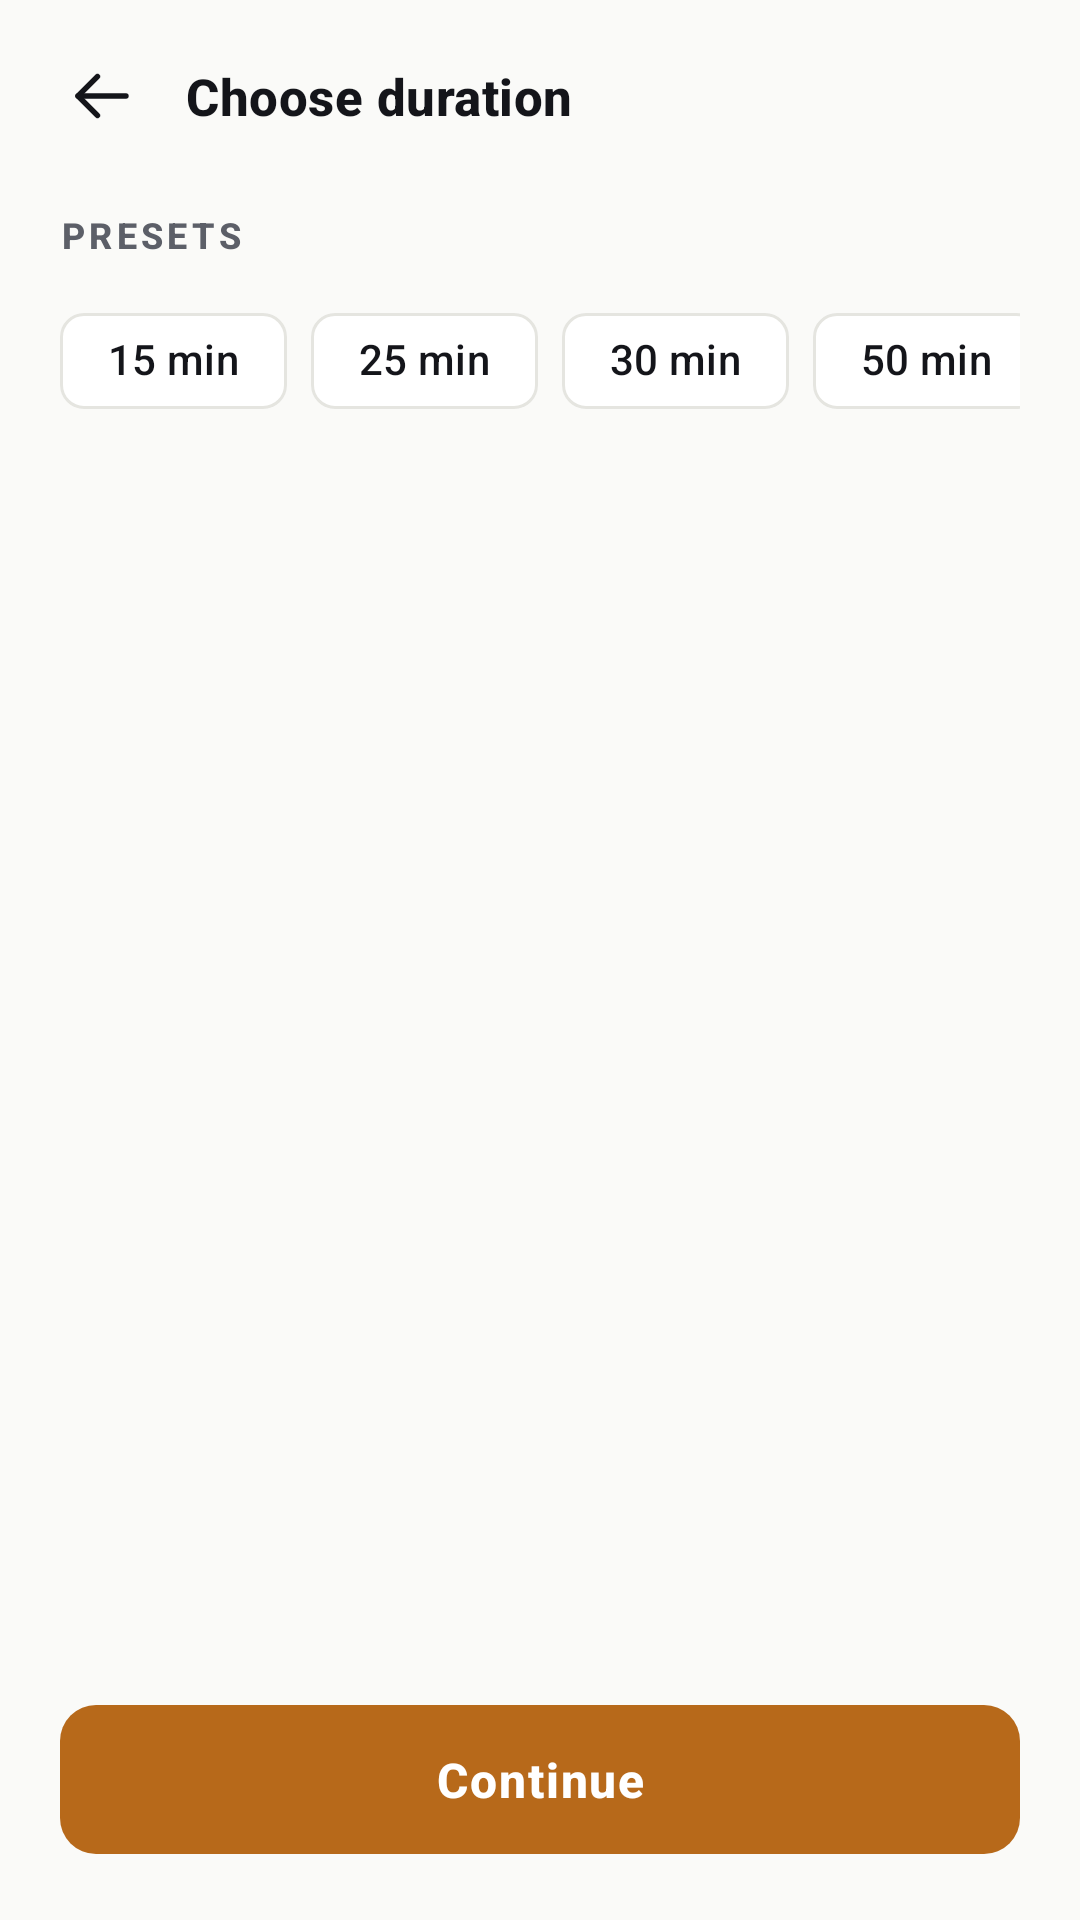

Locate icon controls on the screen. Image size 1080w x 1920h, boxes as (x1, y1, x2, y2).
Back: (75, 73, 129, 119)
